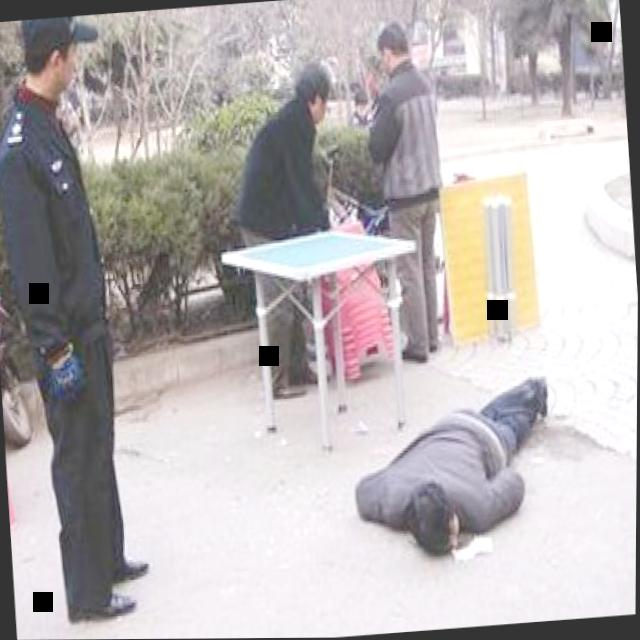Fall-Detected: (342, 345, 575, 575)
